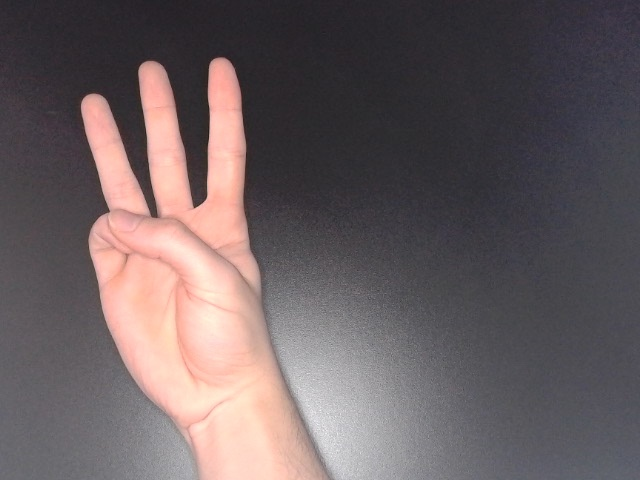w: (72, 52, 276, 439)
